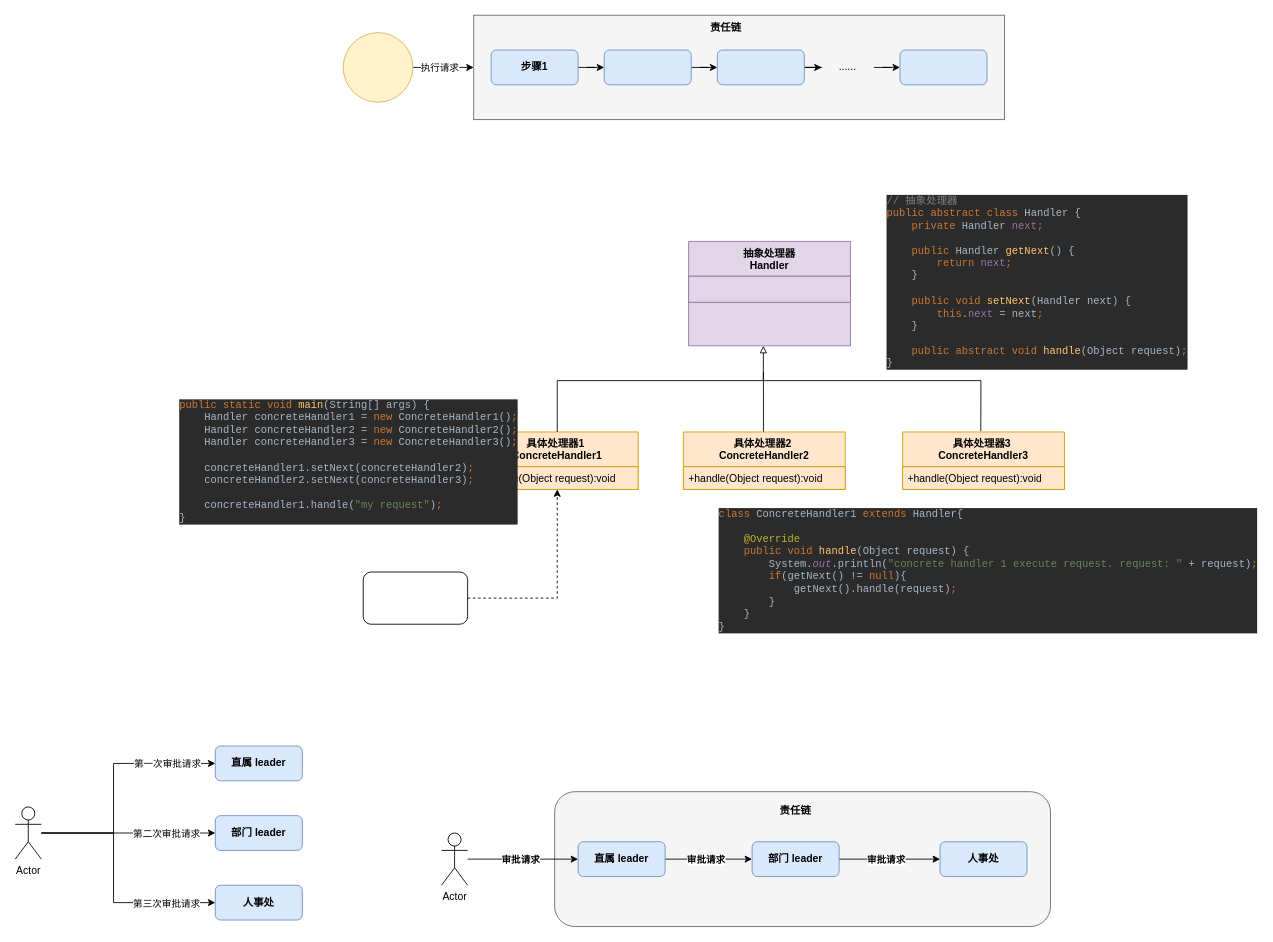
This 1273x942 diagram has some shape labels left out. Each missing label, with the centre of its shape:
+setNext(Handler next):void +getNext():Handler +handle(Object request):void: (769,323)
- nextHandler:Handler: (769,288)
Client调用者: (415,597)
客户端: (377,67)
步骤2: (647,67)
步骤3: (760,67)
步骤n: (943,67)
